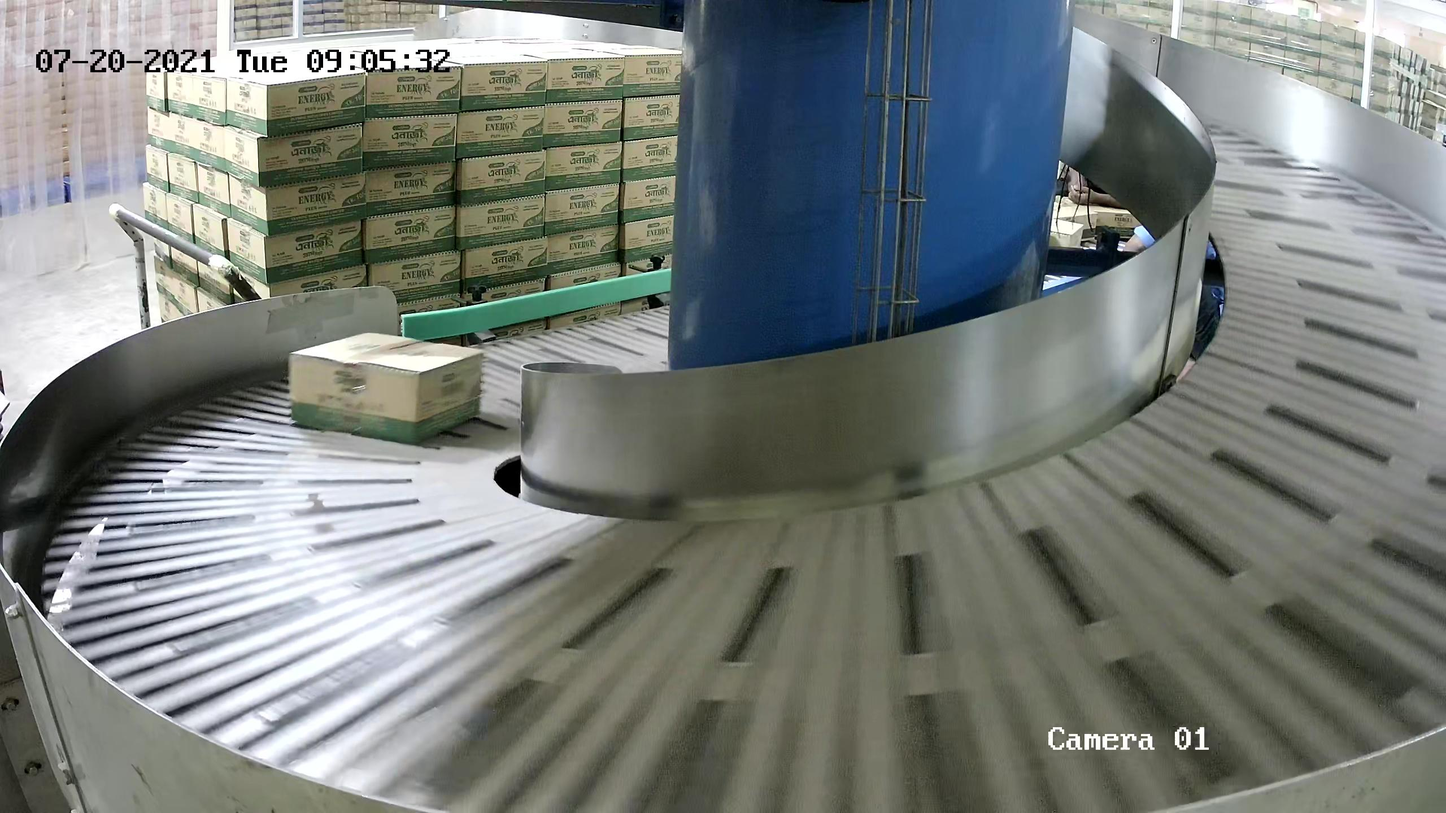Box: (286, 330, 486, 446)
